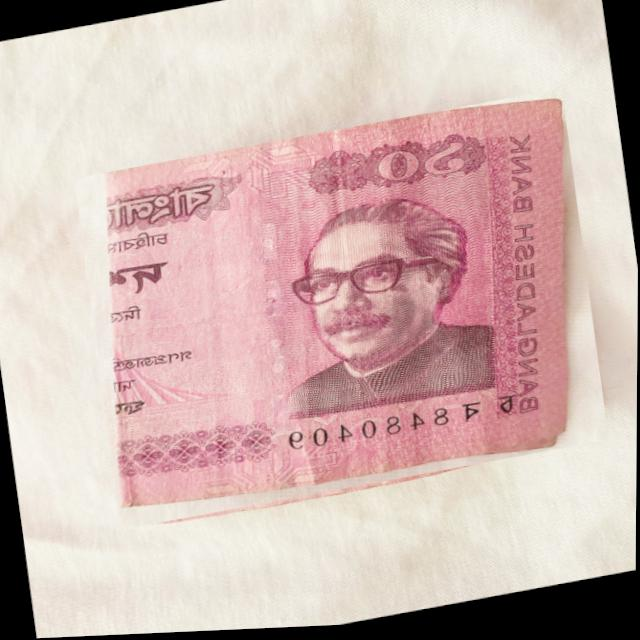Taka: (73, 92, 612, 532)
